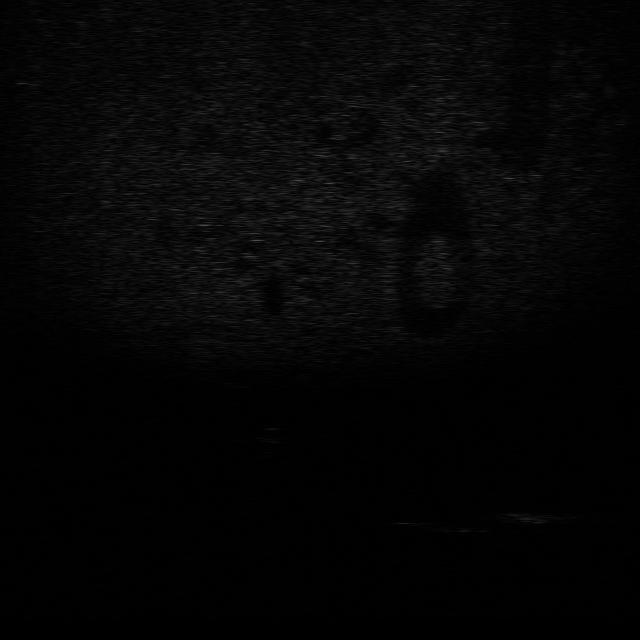ball: (252, 424, 288, 446)
metal bucket: (495, 504, 580, 528)
tyre: (393, 512, 492, 536)
